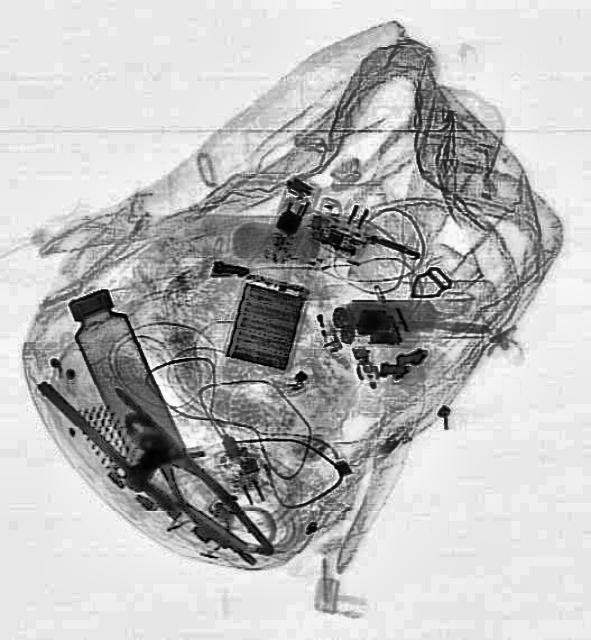Pliers: (110, 396, 278, 576)
